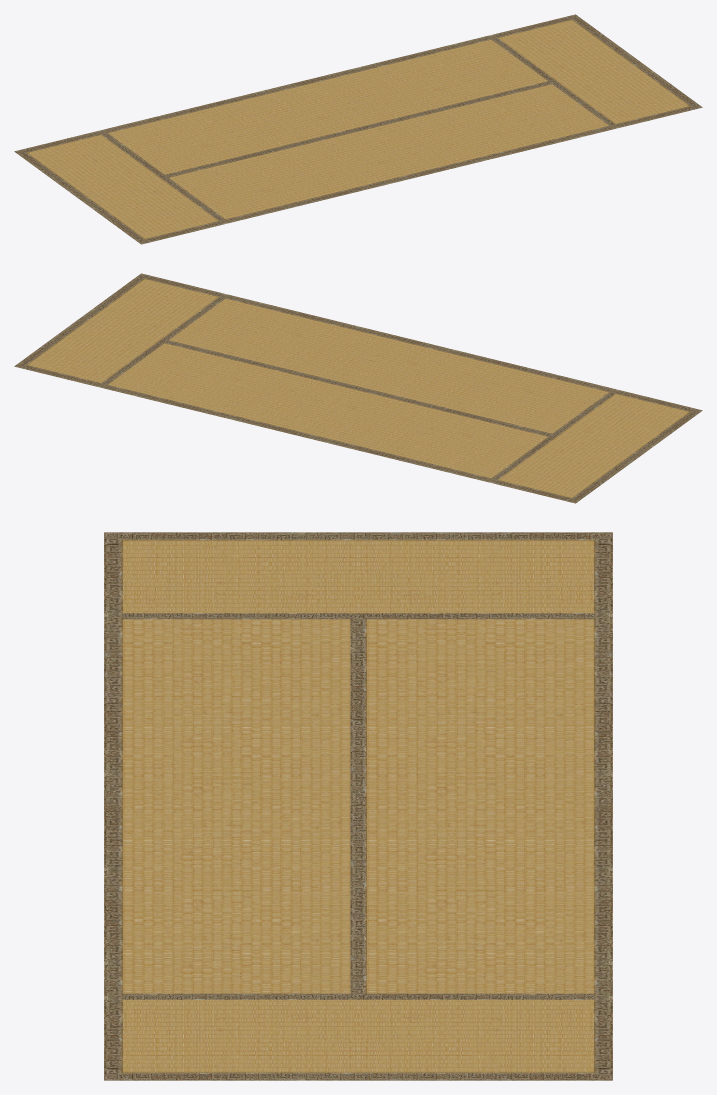
File: wujian_yunmeng_08.FBX
The picture shows the model from 3 angles, top to bottom: view 1: azimuth 30°, elevation 25°; view 2: azimuth 150°, elevation 25°; view 3: azimuth 270°, elevation 25°; orthographic projection. The views are drawn at different scales.
Parts seen in each view (by area): view 1: Mesh_0099; view 2: Mesh_0099; view 3: Mesh_0099.
Boxes of the visible parts, x1=… form: Mesh_0099: x1=14, y1=14, x2=702, y2=244; Mesh_0099: x1=14, y1=273, x2=702, y2=503; Mesh_0099: x1=104, y1=532, x2=612, y2=1080.
Bounding box in the file's own units: 1905 × 0.000123 × 748.
